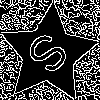S: (24, 29, 79, 84)
